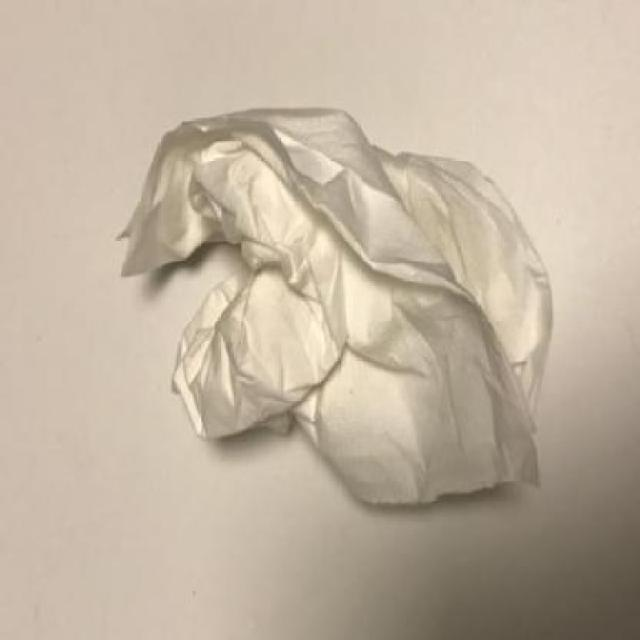giay: (122, 109, 551, 503)
